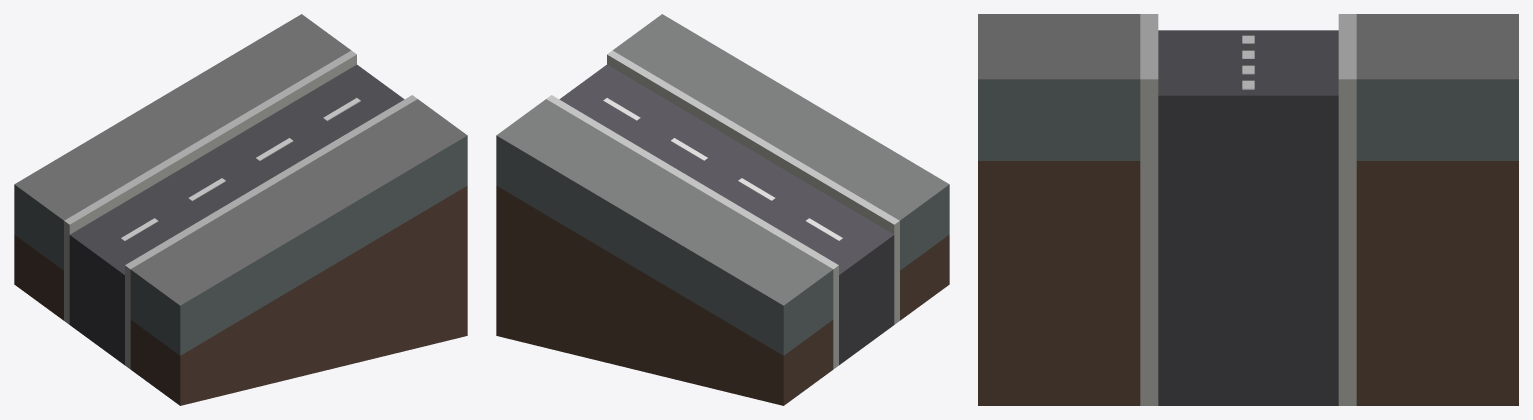
Rendered from TB_CITY_Road_Uphill_A.FBX.
3 renders of one model, left to right at view 1: azimuth 30°, elevation 25°; view 2: azimuth 150°, elevation 25°; view 3: azimuth 270°, elevation 25°, orthographic. The views are drawn at different scales.
Parts seen in each view (by area): view 1: TB_CITY_Road_Uphill_A; view 2: TB_CITY_Road_Uphill_A; view 3: TB_CITY_Road_Uphill_A.
Part boxes in pixels (x1=…): TB_CITY_Road_Uphill_A: x1=14, y1=14, x2=467, y2=405; TB_CITY_Road_Uphill_A: x1=496, y1=14, x2=949, y2=405; TB_CITY_Road_Uphill_A: x1=978, y1=14, x2=1518, y2=405.
Bounding box in the file's own units: 30 × 20 × 30.
